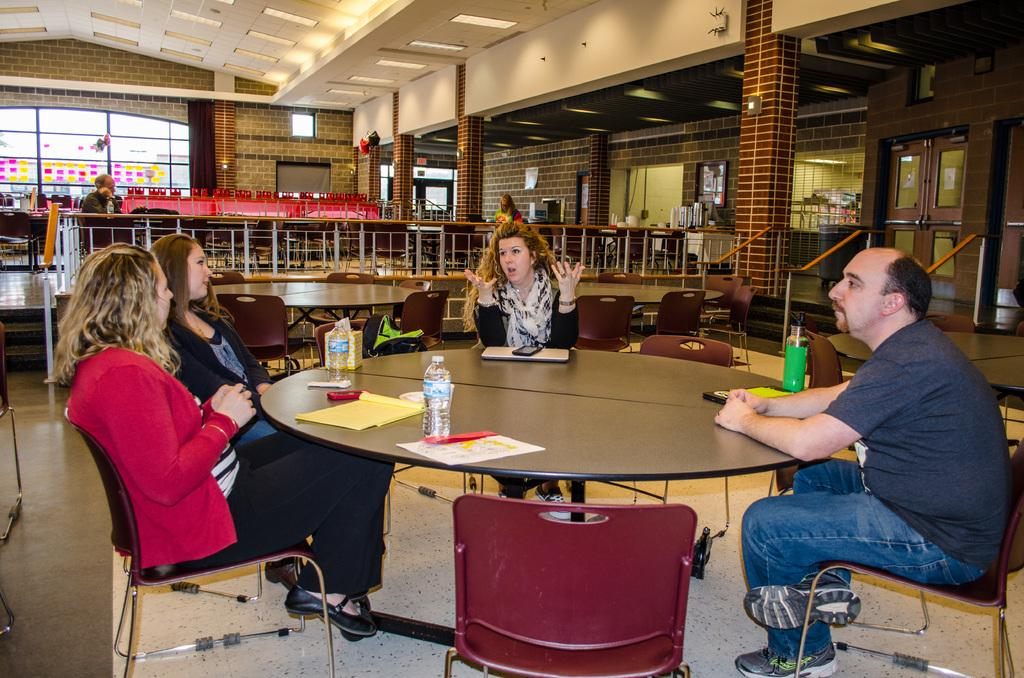Luggage-and-bags: (147, 208, 182, 218)
